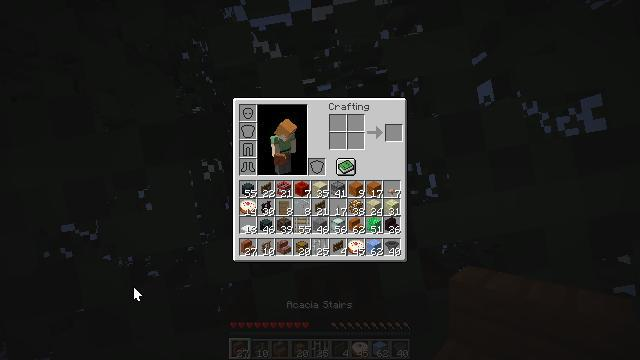cursor: (133, 286, 143, 302)
